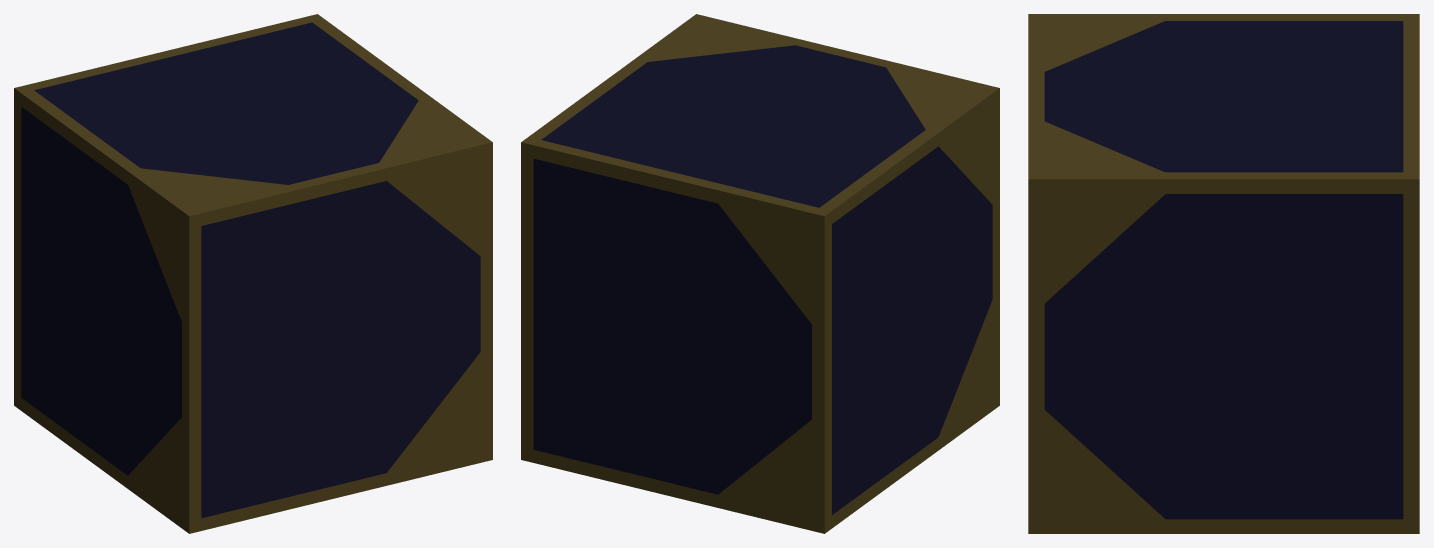
Rendered from Cubesat_1U.obj.
3 views of the same model, side by side, from view 1: azimuth 30°, elevation 25°; view 2: azimuth 150°, elevation 25°; view 3: azimuth 270°, elevation 25° (orthographic). The views are drawn at different scales.
Parts seen in each view (by area): view 1: Cube1_CUBE_BLUE, Cube1_CUBE_ORANGE; view 2: Cube1_CUBE_BLUE, Cube1_CUBE_ORANGE; view 3: Cube1_CUBE_BLUE, Cube1_CUBE_ORANGE.
Part boxes in pixels (x1=…): Cube1_CUBE_BLUE: x1=21, y1=22, x2=480, y2=518; Cube1_CUBE_ORANGE: x1=14, y1=14, x2=492, y2=533; Cube1_CUBE_BLUE: x1=533, y1=45, x2=992, y2=514; Cube1_CUBE_ORANGE: x1=521, y1=14, x2=999, y2=533; Cube1_CUBE_BLUE: x1=1044, y1=21, x2=1403, y2=519; Cube1_CUBE_ORANGE: x1=1028, y1=14, x2=1419, y2=533.
Bounding box in the file's own units: 0.1 × 0.1 × 0.1.
